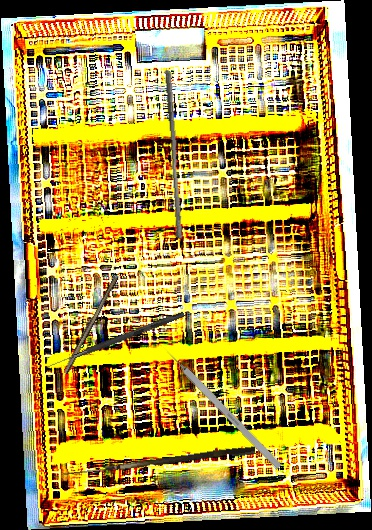Hook Surgical: (160, 344, 283, 470), (46, 309, 185, 372), (63, 442, 256, 485)
Pusher: (158, 69, 189, 240)
Scalpel Handle: (61, 275, 119, 375)
